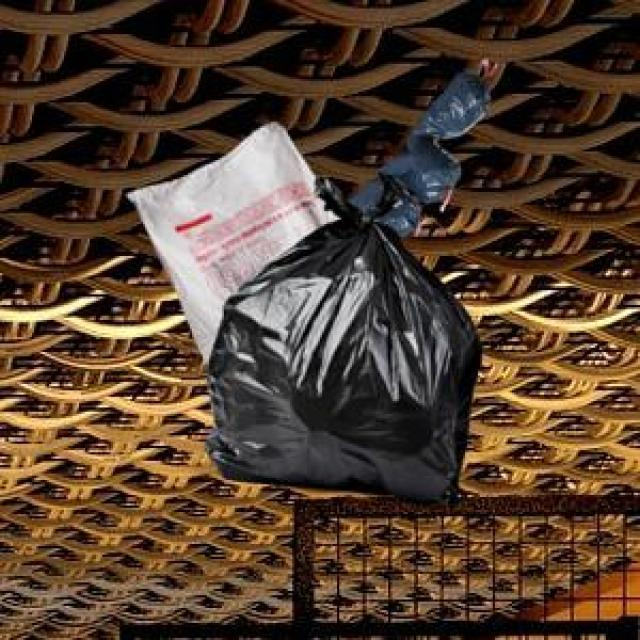miscellaneous trash: (201, 169, 478, 499), (346, 66, 486, 233)
